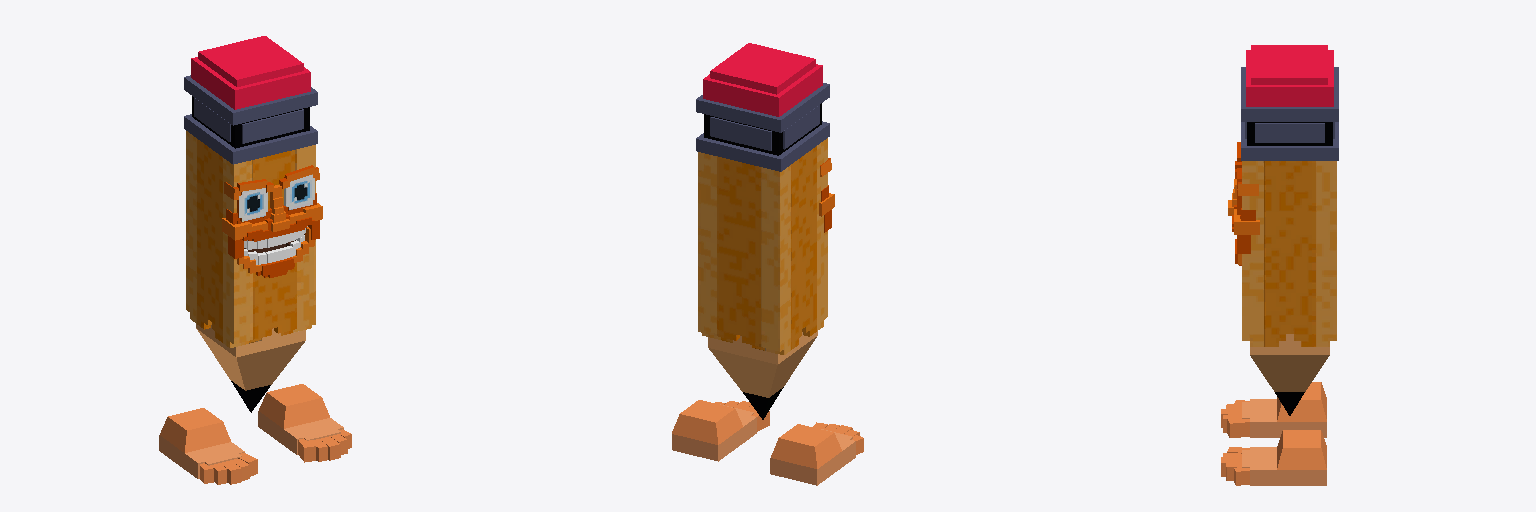
3 renders of one model, left to right at view 1: azimuth 30°, elevation 25°; view 2: azimuth 150°, elevation 25°; view 3: azimuth 270°, elevation 25°, orthographic.
Parts seen in each view (by area): view 1: Cube0201, Cube0051, Cube0041, Cube0061, Cube0011, Cube0181, Cube0121, Plane0011, Cube0021, Cube0171; view 2: Cube0201, Cube0041, Cube0061, Cube0051, Cube0011, Cube0181, Cube0021; view 3: Cube0201, Cube0061, Cube0041, Cube0051, Cube0181, Cube0011, Cube0021, Cube0121, Plane0011.
Boxes of the visible parts, <box> form: Cube0201: <box>186,131,315,347</box>; Cube0051: <box>160,384,351,484</box>; Cube0041: <box>184,75,317,164</box>; Cube0061: <box>191,36,310,109</box>; Cube0011: <box>196,324,305,390</box>; Cube0181: <box>159,411,343,478</box>; Cube0121: <box>222,167,322,273</box>; Plane0011: <box>226,165,319,277</box>; Cube0021: <box>192,96,309,412</box>; Cube0171: <box>244,226,307,264</box>; Cube0201: <box>698,138,827,354</box>; Cube0041: <box>696,83,829,171</box>; Cube0061: <box>703,43,822,116</box>; Cube0051: <box>672,400,863,468</box>; Cube0011: <box>708,331,817,397</box>; Cube0181: <box>672,404,855,485</box>; Cube0021: <box>704,103,821,419</box>; Cube0201: <box>1242,161,1336,346</box>; Cube0061: <box>1246,45,1333,106</box>; Cube0041: <box>1241,67,1338,160</box>; Cube0051: <box>1221,382,1326,485</box>; Cube0181: <box>1242,399,1326,485</box>; Cube0011: <box>1250,334,1329,391</box>; Cube0021: <box>1247,122,1332,415</box>; Cube0121: <box>1228,179,1259,264</box>; Plane0011: <box>1232,142,1255,265</box>.
Size of the model in its own units: 3.74 by 9.41 by 2.59.
10 materials, 1 textured.